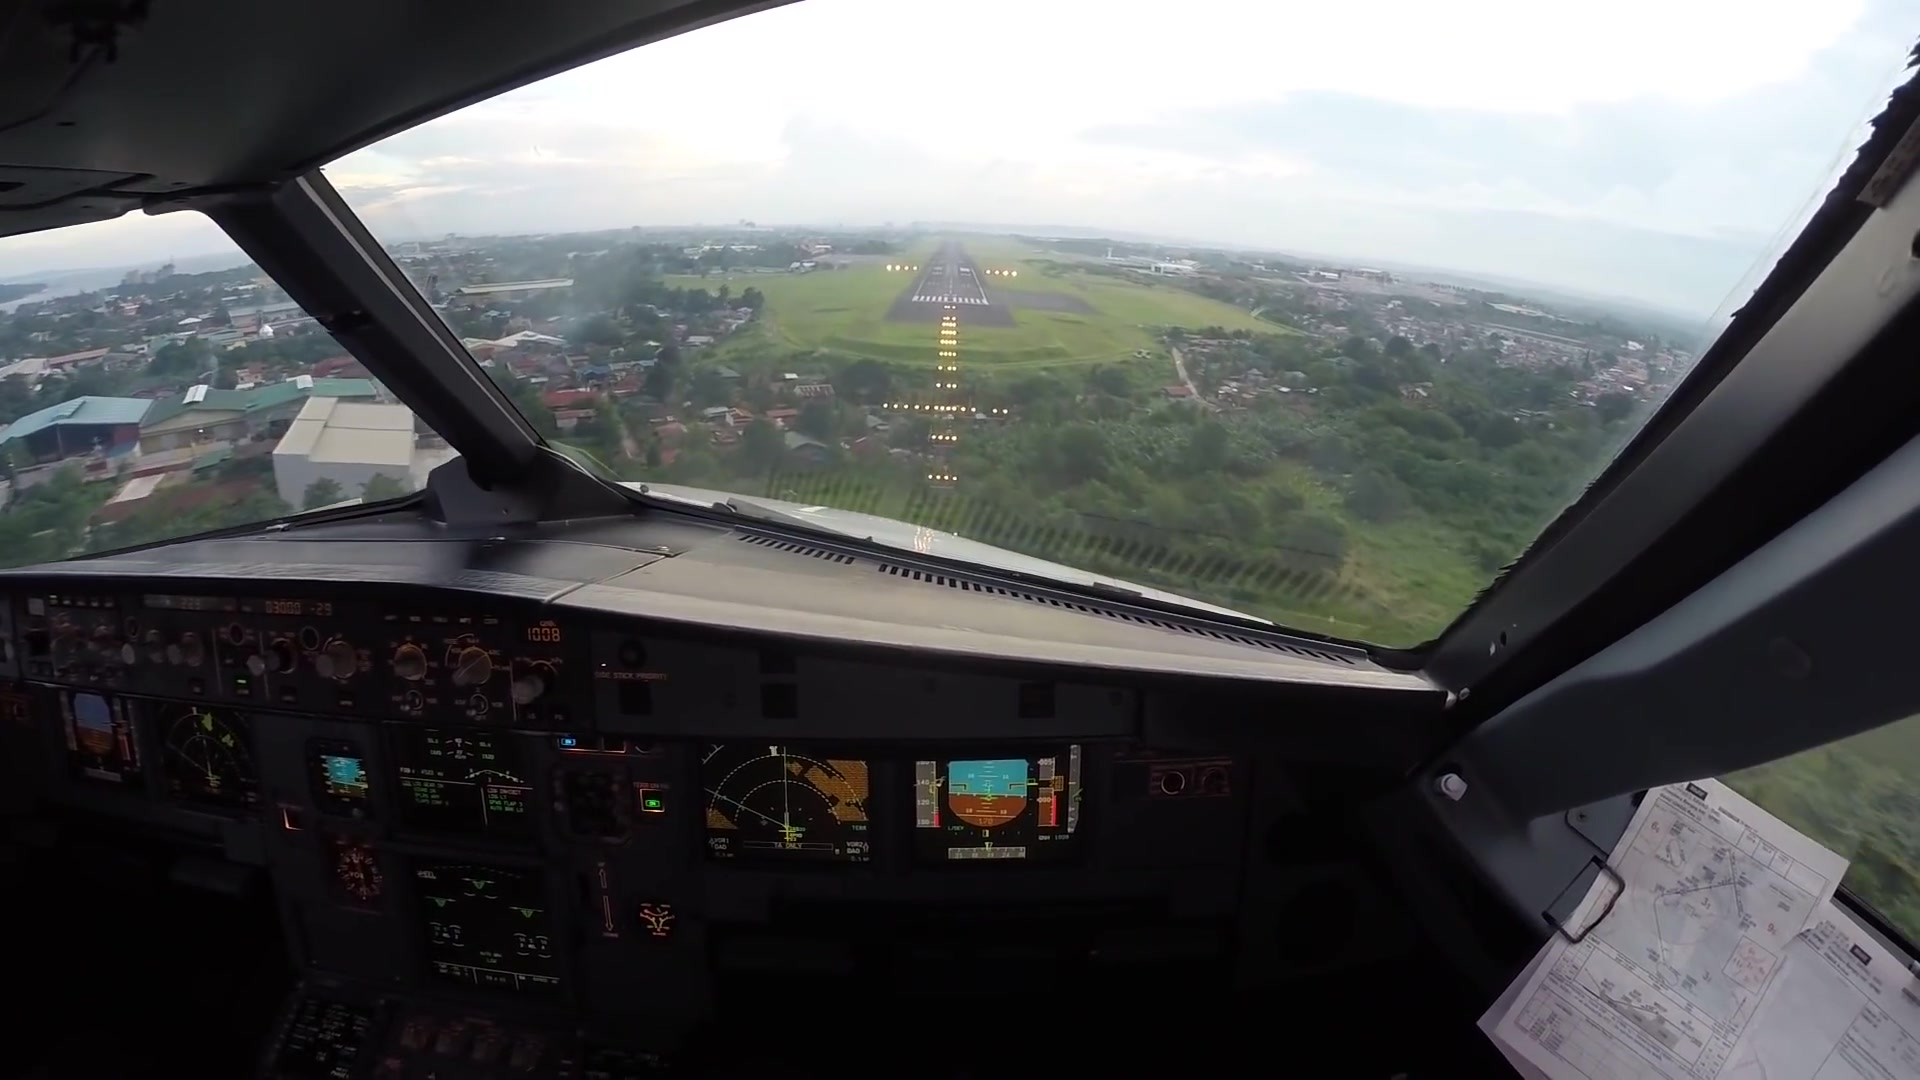entrance: (909, 290, 993, 309)
runway: (886, 245, 1015, 327)
